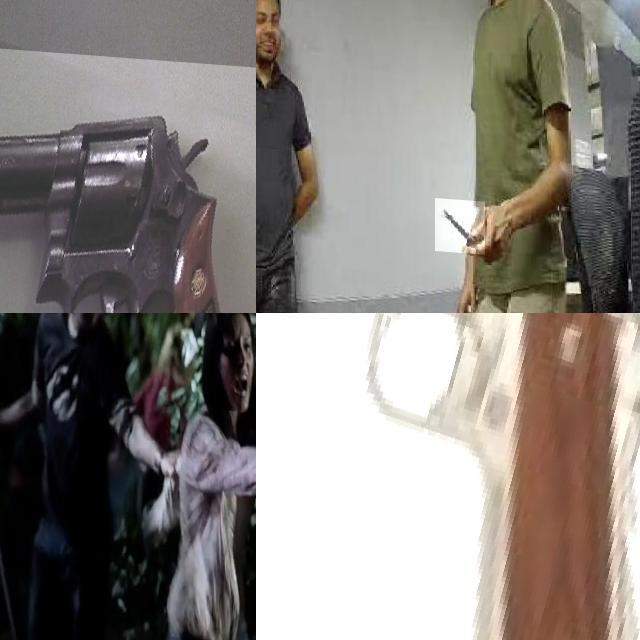-: (435, 192, 485, 248)
gun-knife-thesis - v11 Yolov5 augmented: (256, 313, 640, 640), (0, 37, 256, 313)
